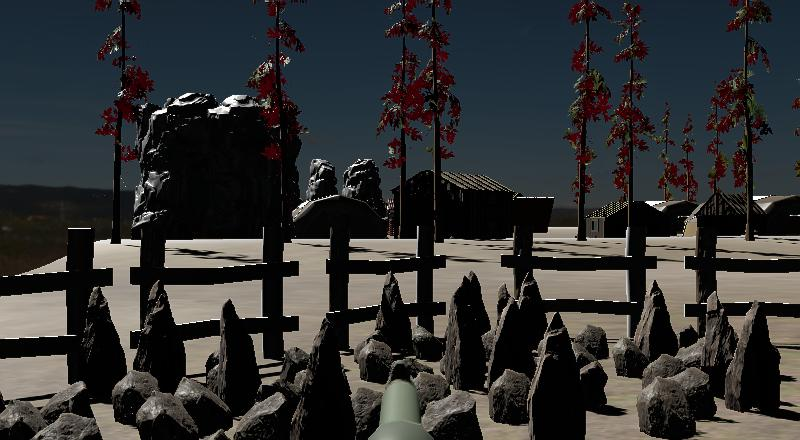House: (393, 168, 519, 240), (688, 190, 764, 236)
